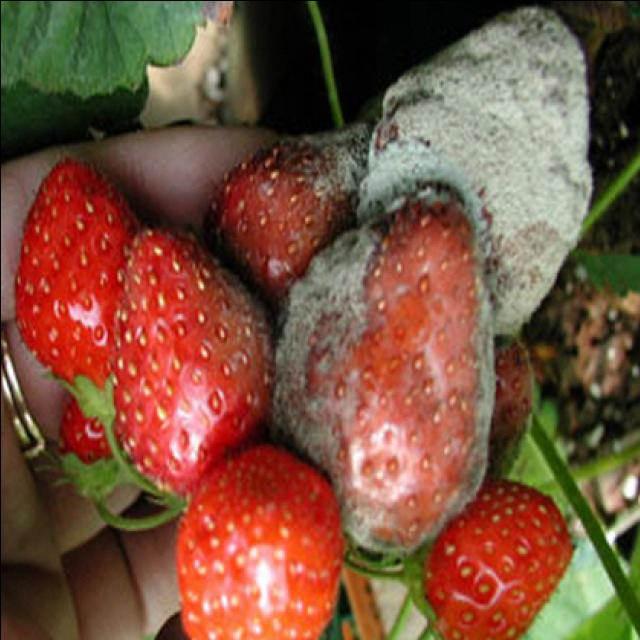Gray Mold: (269, 180, 495, 549), (357, 5, 593, 336), (199, 123, 369, 317), (119, 230, 276, 396)
